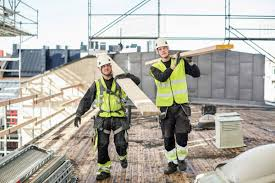helmet: (94, 54, 113, 68), (155, 36, 168, 49)
vest: (154, 63, 191, 105), (97, 79, 125, 117)
